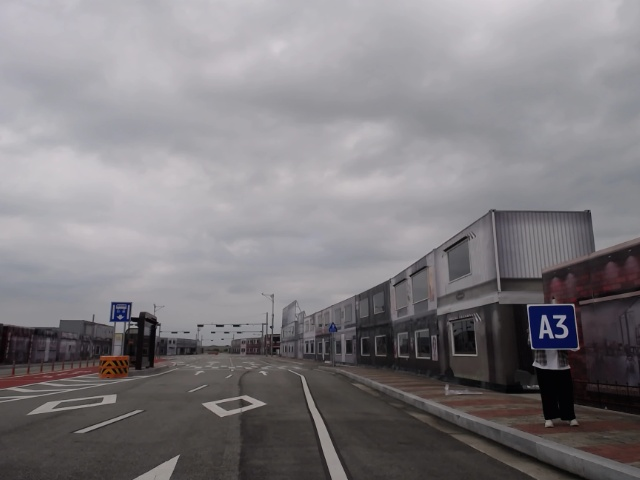delivery_a3: (528, 304, 579, 350)
